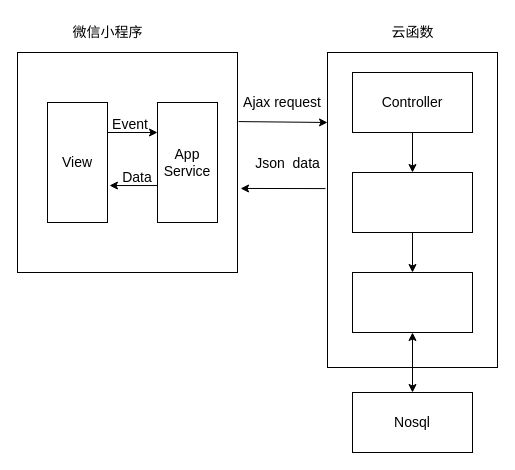
Some shapes in this 515 by 470 pixel diagram are drawn without their labels. Here are the shapes that lost their labels. From the top down, the box of each, then its label:
(352, 172, 472, 232): Service
(352, 272, 472, 332): Model
